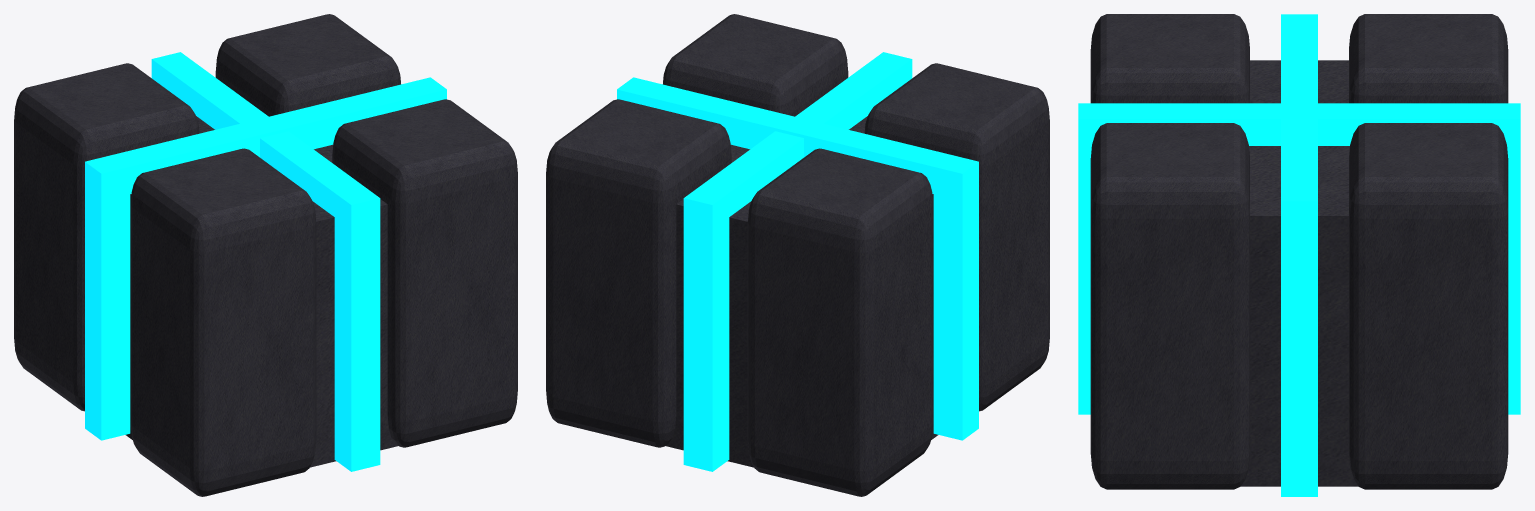
The picture shows the model from 3 angles, left to right: view 1: azimuth 30°, elevation 25°; view 2: azimuth 150°, elevation 25°; view 3: azimuth 270°, elevation 25°; orthographic projection. The views are drawn at different scales.
Visible parts, largest first — view 1: newBox.006, newBox.005, newBox.004, newBox.002, newBox.001, newBox.003, newBox; view 2: newBox.004, newBox.003, newBox.006, newBox.002, newBox.001, newBox.005, newBox; view 3: newBox.003, newBox.005, newBox, newBox.002, newBox.001, newBox.004, newBox.006.
Boxes of the visible parts, bbox=[...] form: newBox.006: bbox=[130, 148, 316, 496]; newBox.005: bbox=[332, 99, 517, 447]; newBox.004: bbox=[14, 63, 199, 411]; newBox.002: bbox=[85, 77, 446, 440]; newBox.001: bbox=[151, 52, 380, 471]; newBox.003: bbox=[215, 14, 400, 116]; newBox: bbox=[126, 116, 397, 467]; newBox.004: bbox=[747, 148, 933, 496]; newBox.003: bbox=[546, 99, 731, 447]; newBox.006: bbox=[864, 63, 1049, 411]; newBox.002: bbox=[617, 77, 978, 440]; newBox.001: bbox=[683, 52, 912, 471]; newBox.005: bbox=[663, 14, 848, 116]; newBox: bbox=[666, 116, 937, 467]; newBox.003: bbox=[1349, 123, 1508, 489]; newBox.005: bbox=[1090, 123, 1249, 489]; newBox: bbox=[1240, 60, 1358, 486]; newBox.002: bbox=[1281, 14, 1317, 496]; newBox.001: bbox=[1078, 103, 1520, 414]; newBox.004: bbox=[1349, 14, 1508, 103]; newBox.006: bbox=[1090, 14, 1249, 103].
Size of the model in its own units: 1.2 by 0.9377 by 1.2.
2 materials, 1 textured.
